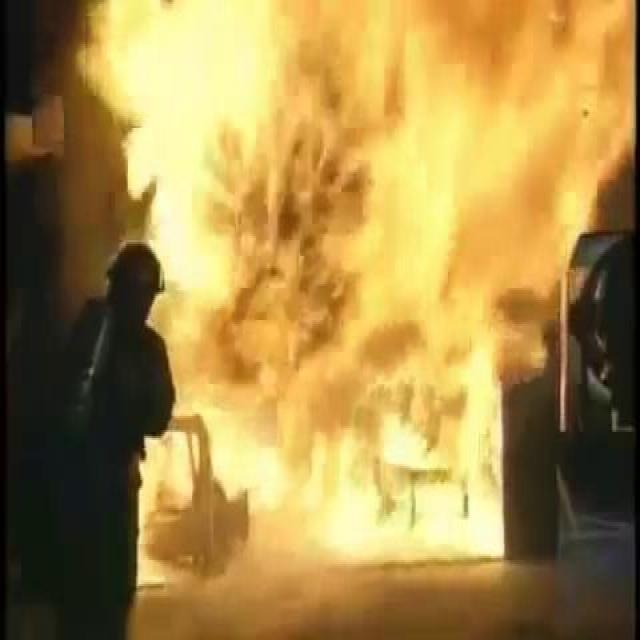Fire: (250, 215, 525, 578)
